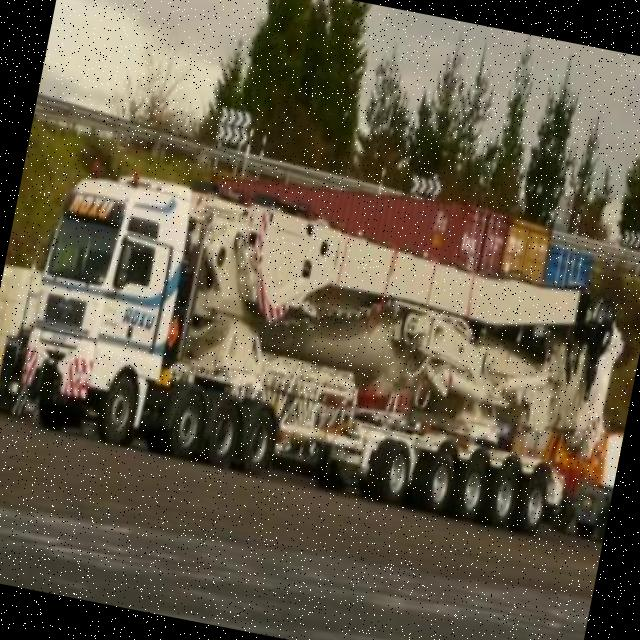Mobile Crane: (11, 158, 638, 543)
